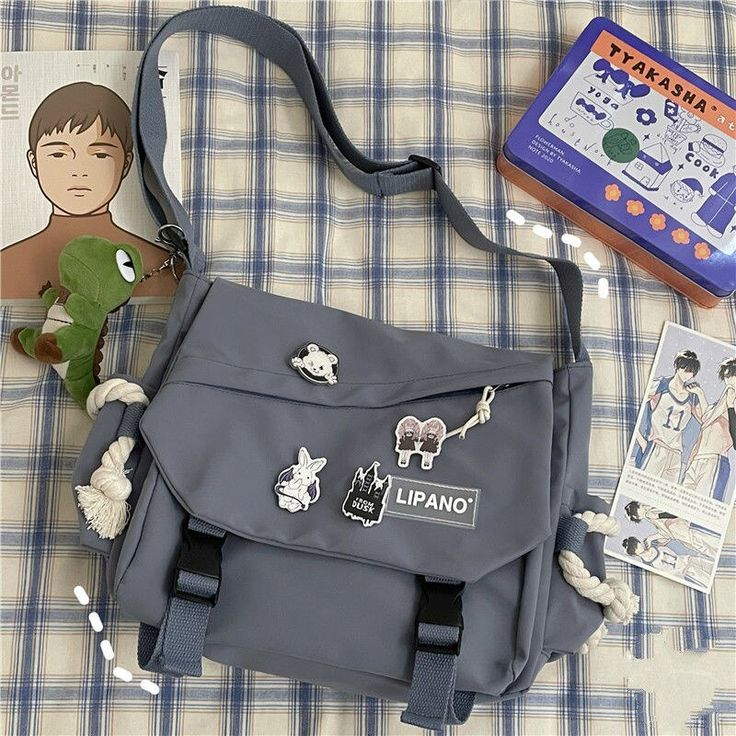nylon: (71, 6, 609, 729)
